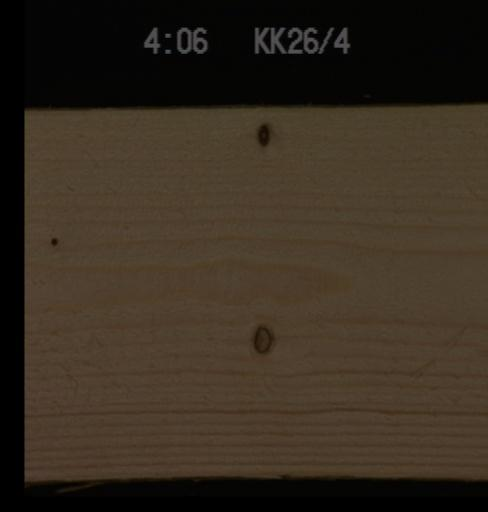dry_knot: (250, 321, 272, 354), (254, 120, 270, 146)
small_knot: (46, 232, 58, 246)
